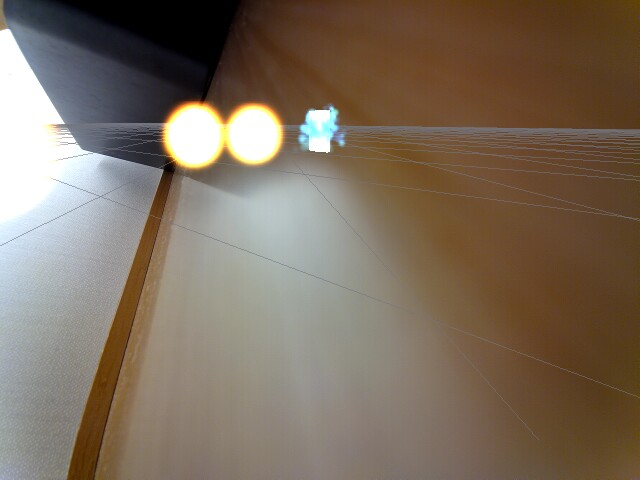firebig: (0, 89, 62, 234)
